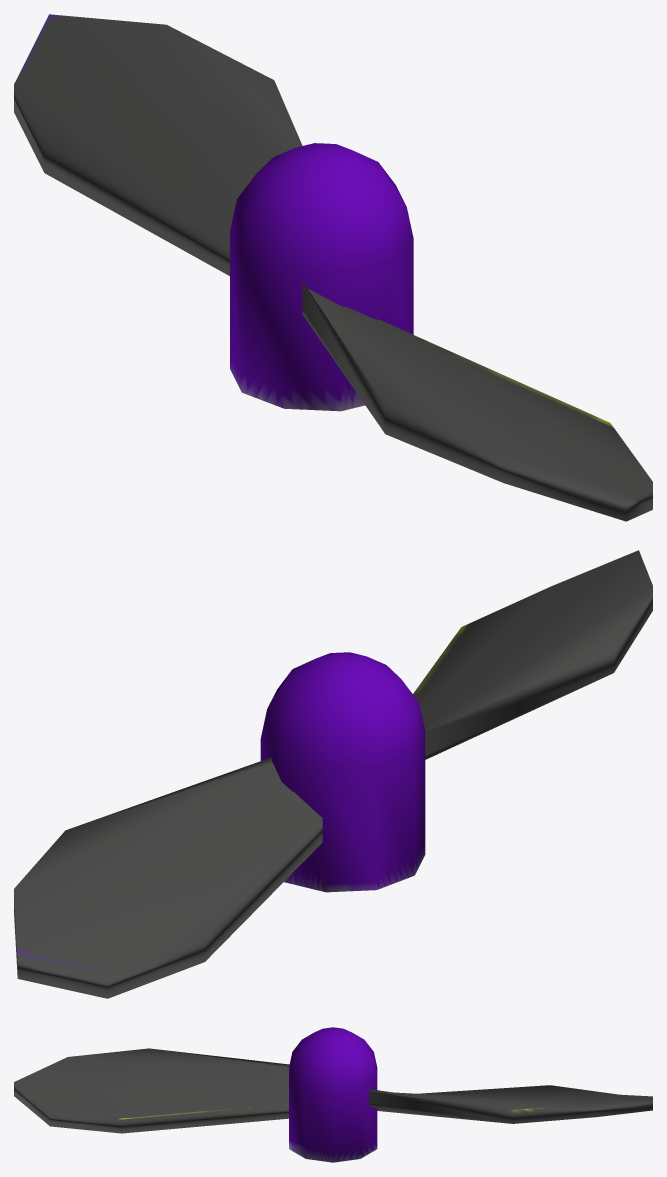
The model's file is SM_Dron_1_SM_D1_Propeller3.fbx.
3 renders of one model, top to bottom at view 1: azimuth 30°, elevation 25°; view 2: azimuth 150°, elevation 25°; view 3: azimuth 270°, elevation 25°, orthographic. The views are drawn at different scales.
Parts seen in each view (by area): view 1: SM_Dron_1_SM_D1_Propeller3; view 2: SM_Dron_1_SM_D1_Propeller3; view 3: SM_Dron_1_SM_D1_Propeller3.
Part boxes in pixels (<box>): SM_Dron_1_SM_D1_Propeller3: <box>14,14,652,521</box>; SM_Dron_1_SM_D1_Propeller3: <box>14,550,652,998</box>; SM_Dron_1_SM_D1_Propeller3: <box>14,1027,652,1162</box>.
Bounding box in the file's own units: 5.44 × 23.89 × 4.6.
Materials: 1 (1 with a texture image).
